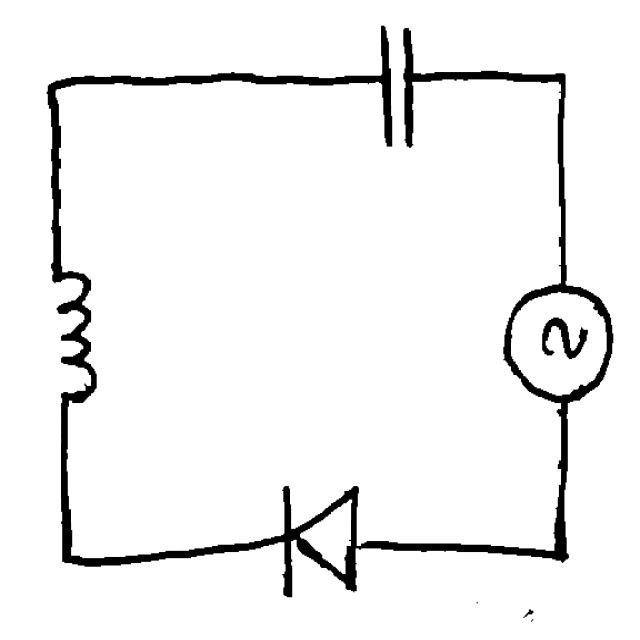ac: (490, 271, 624, 411)
capacitor: (350, 10, 432, 159)
diode: (262, 468, 368, 606)
inductor: (27, 248, 114, 418)
